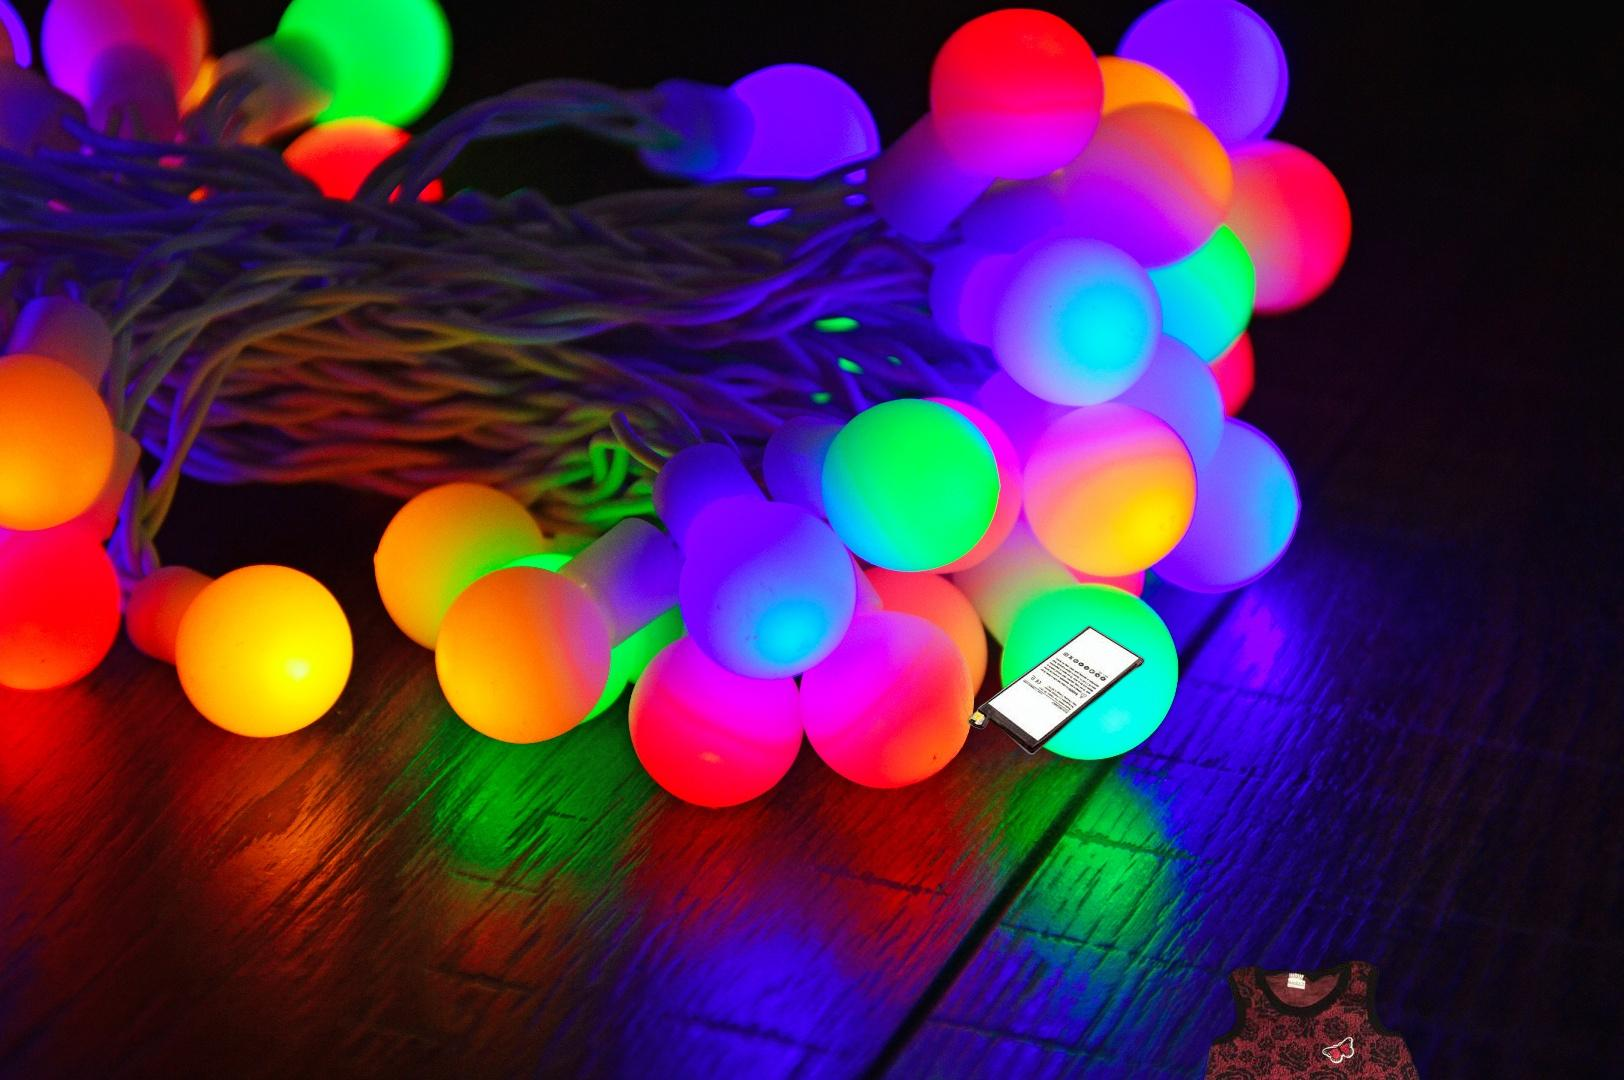battery: (965, 623, 1147, 758)
clothes: (1059, 945, 1504, 1080)
